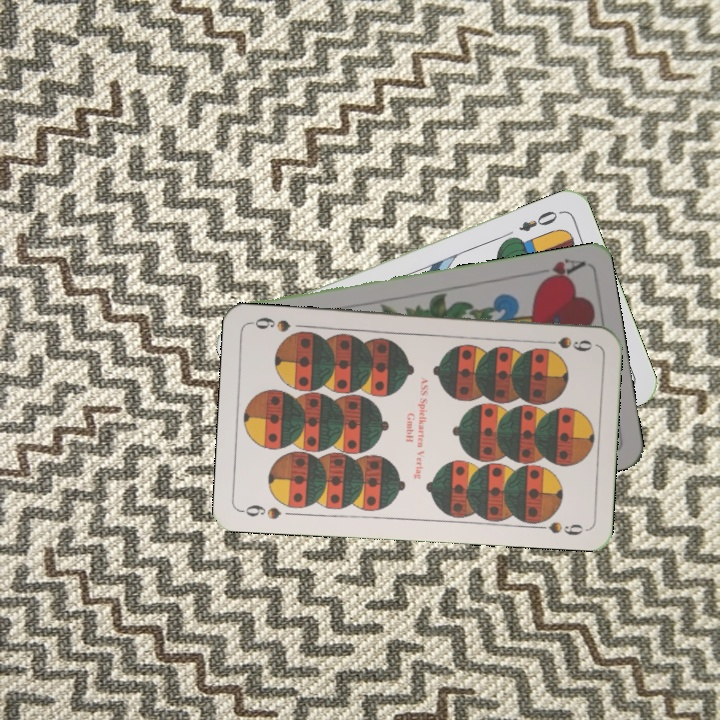EO: (515, 206, 565, 234)
HA: (527, 254, 586, 287)
S9: (537, 333, 594, 354), (237, 500, 284, 522)
